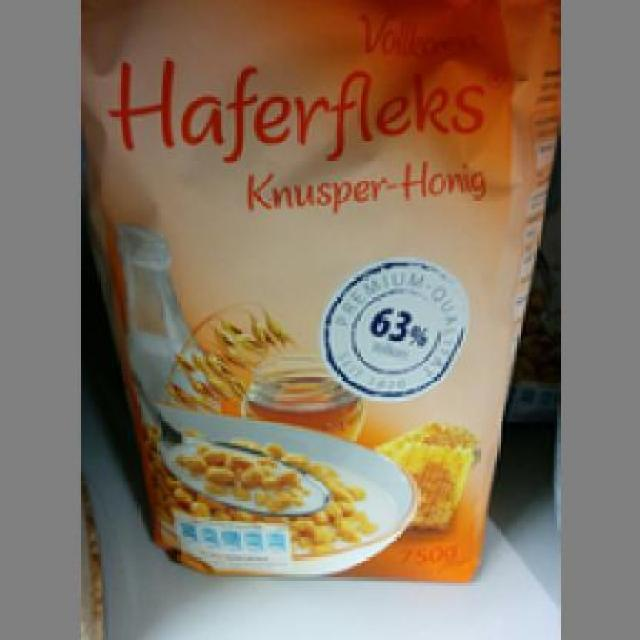Cereal: (77, 0, 557, 580)
